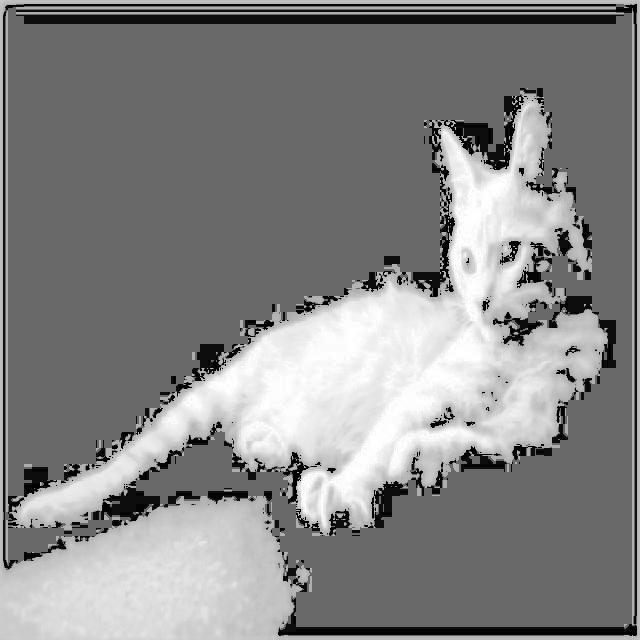Cat: (14, 91, 623, 551)
